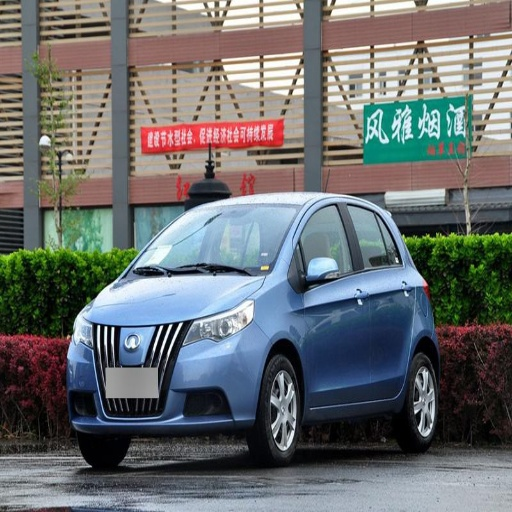front_bumper: (65, 319, 267, 434)
front_glass: (125, 205, 298, 277)
front_left_door: (295, 200, 371, 410)
